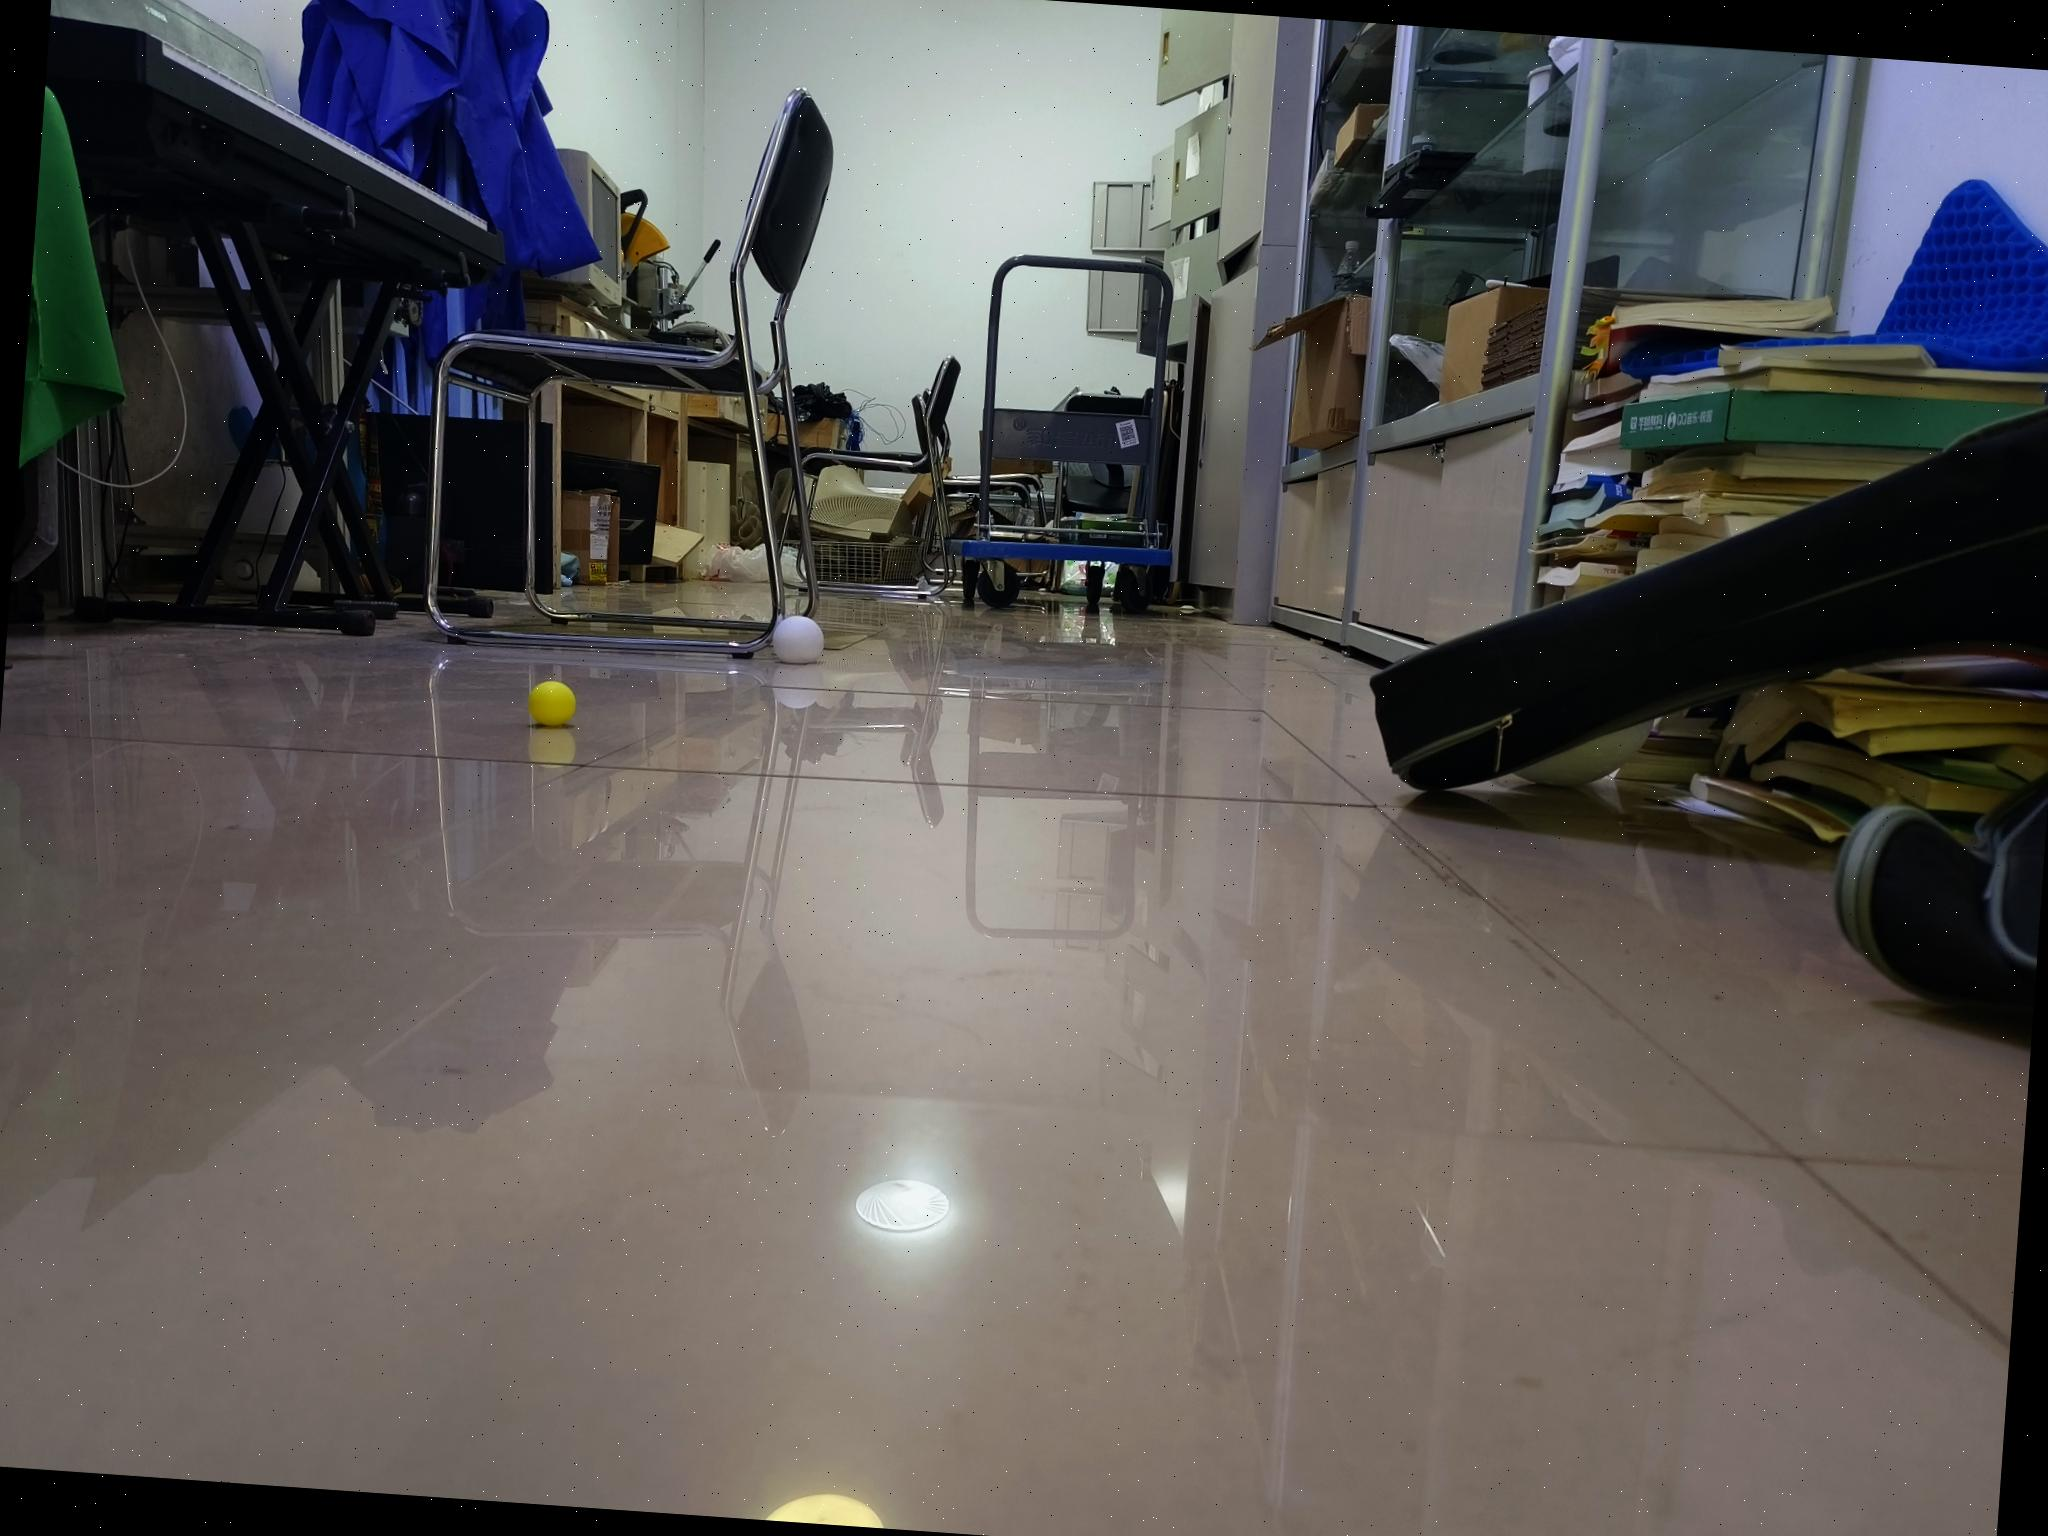ball: (525, 676, 580, 730)
